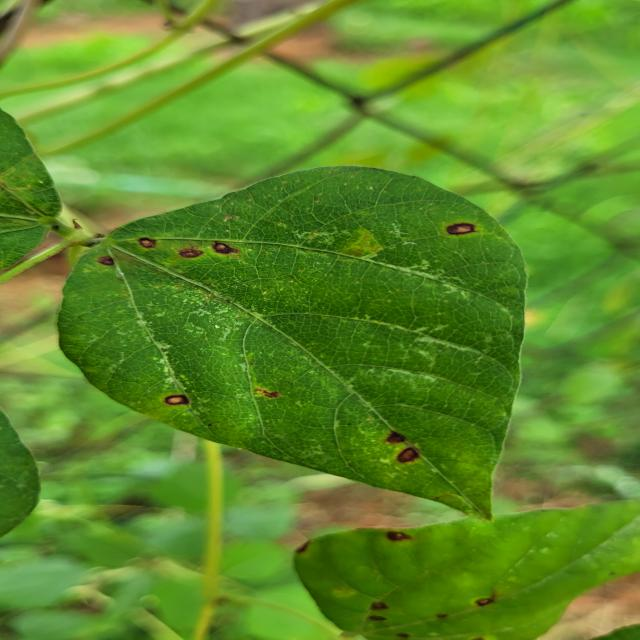Dolicos bean_cercospora leaf spot: (60, 160, 526, 528), (299, 498, 640, 640)
